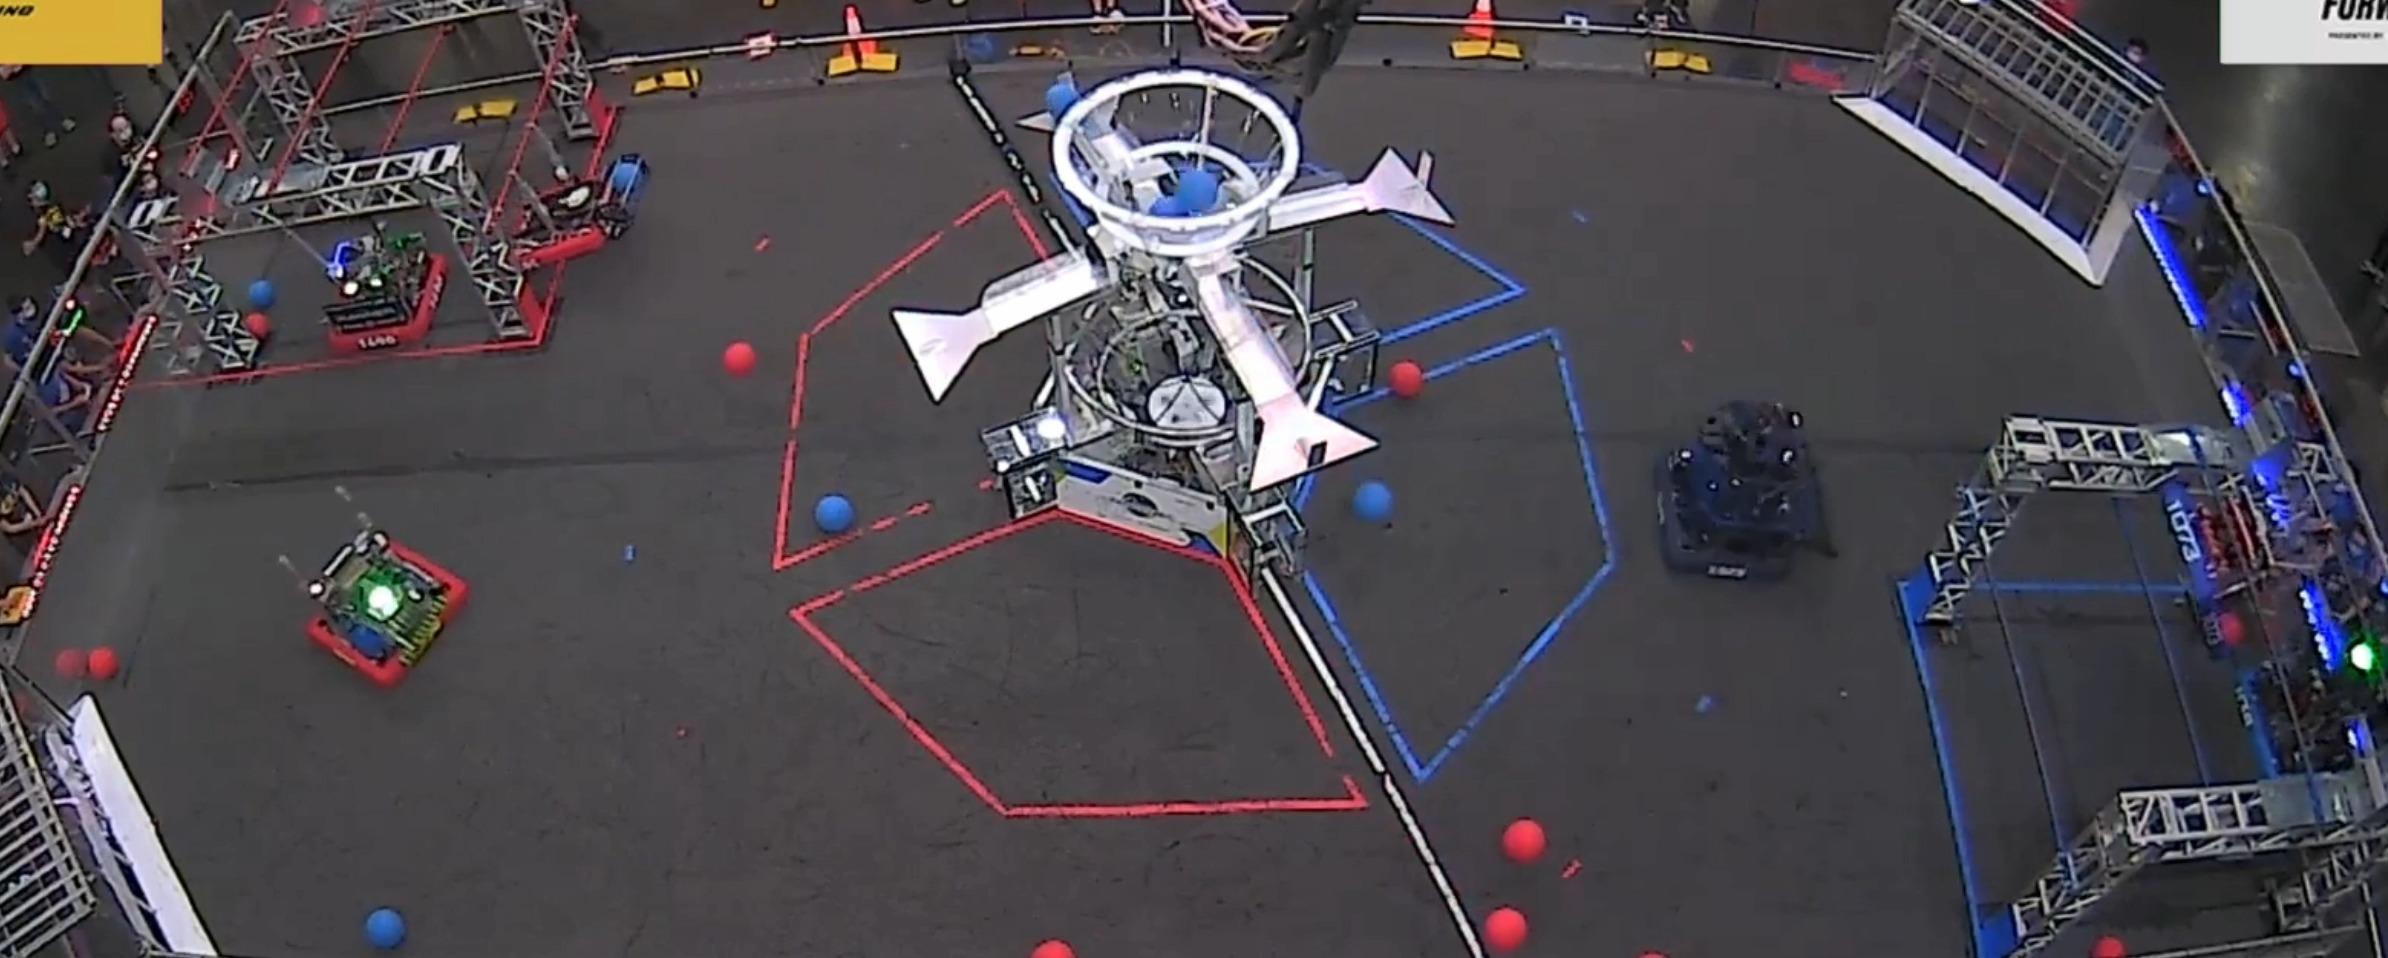Robots: (2152, 457, 2368, 615), (1655, 398, 1838, 580), (302, 521, 465, 687), (2265, 600, 2388, 787), (318, 219, 445, 349), (507, 158, 637, 270)
